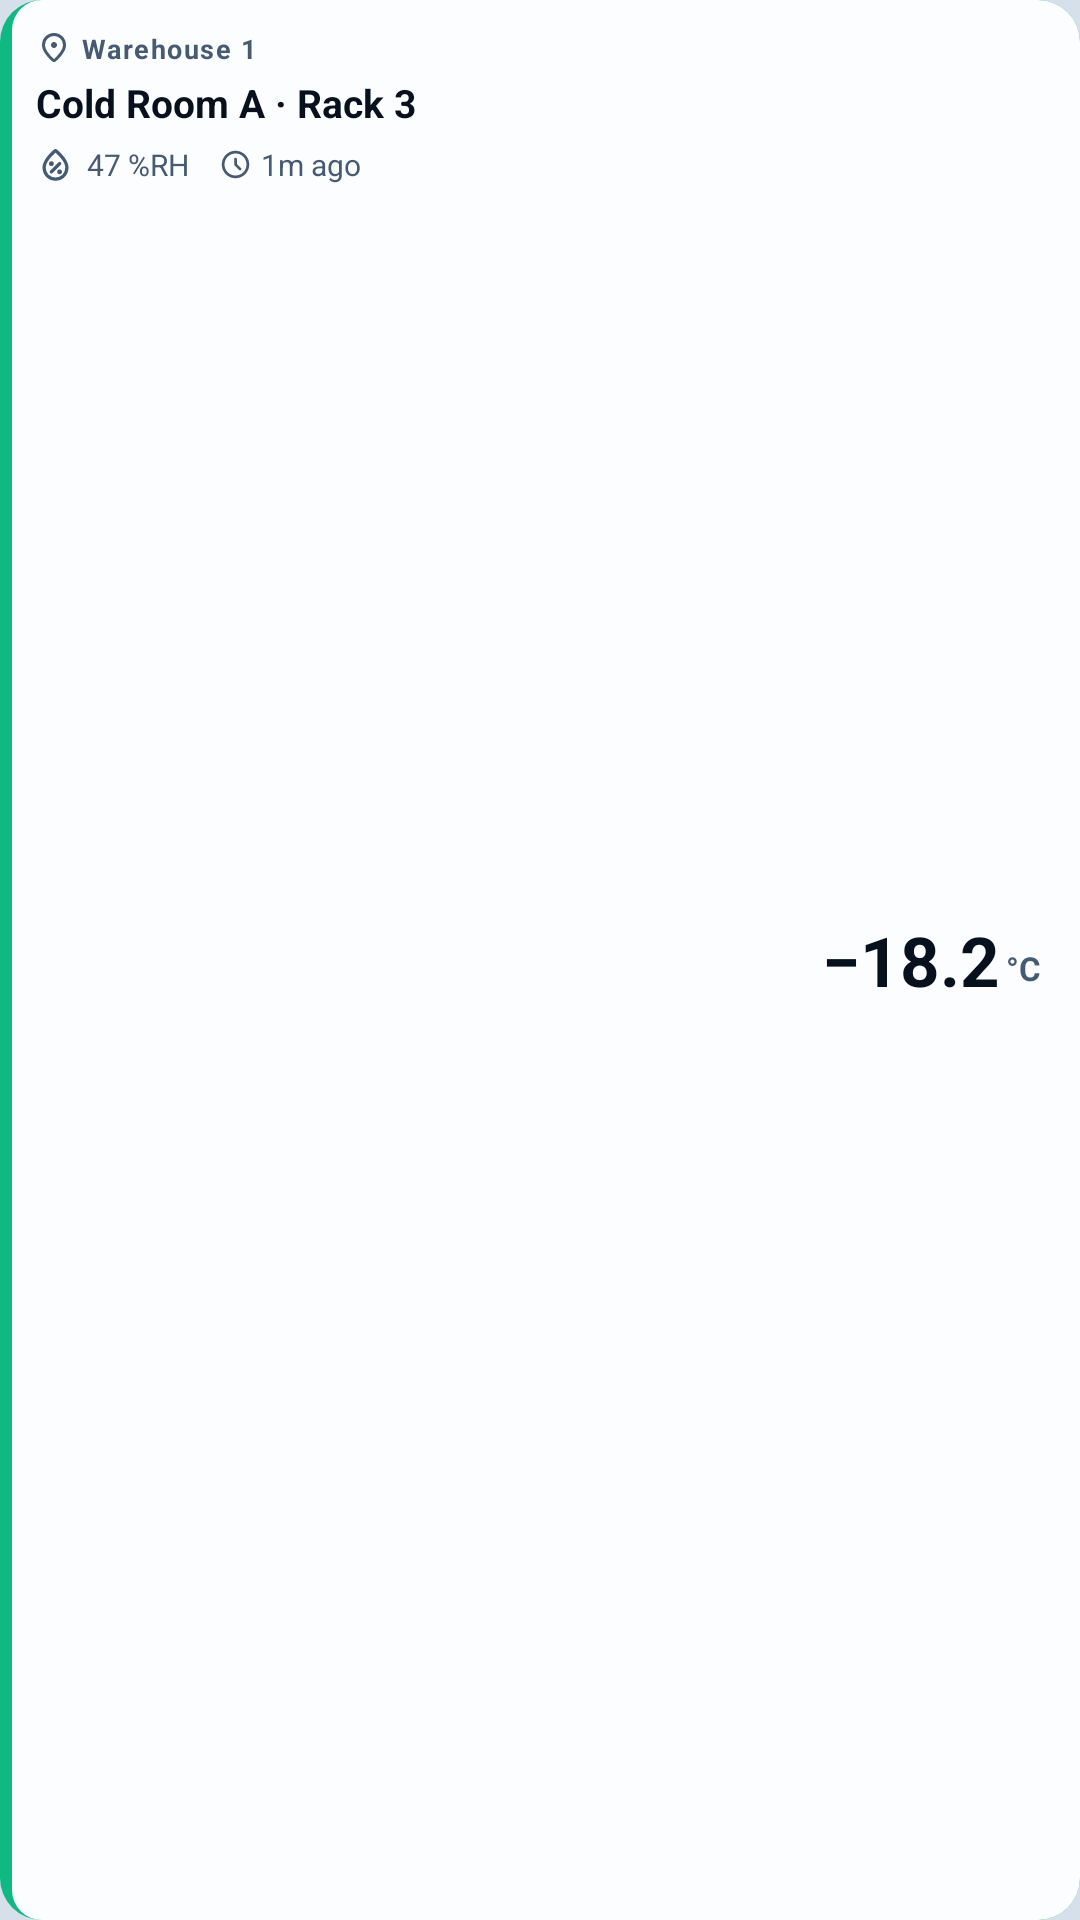

Point at icon controls on the screen. Image size 1080w x 1920h, points as [x,y].
humidity percentage: [55,165]
location on: [54,47]
schedule: [235,164]
